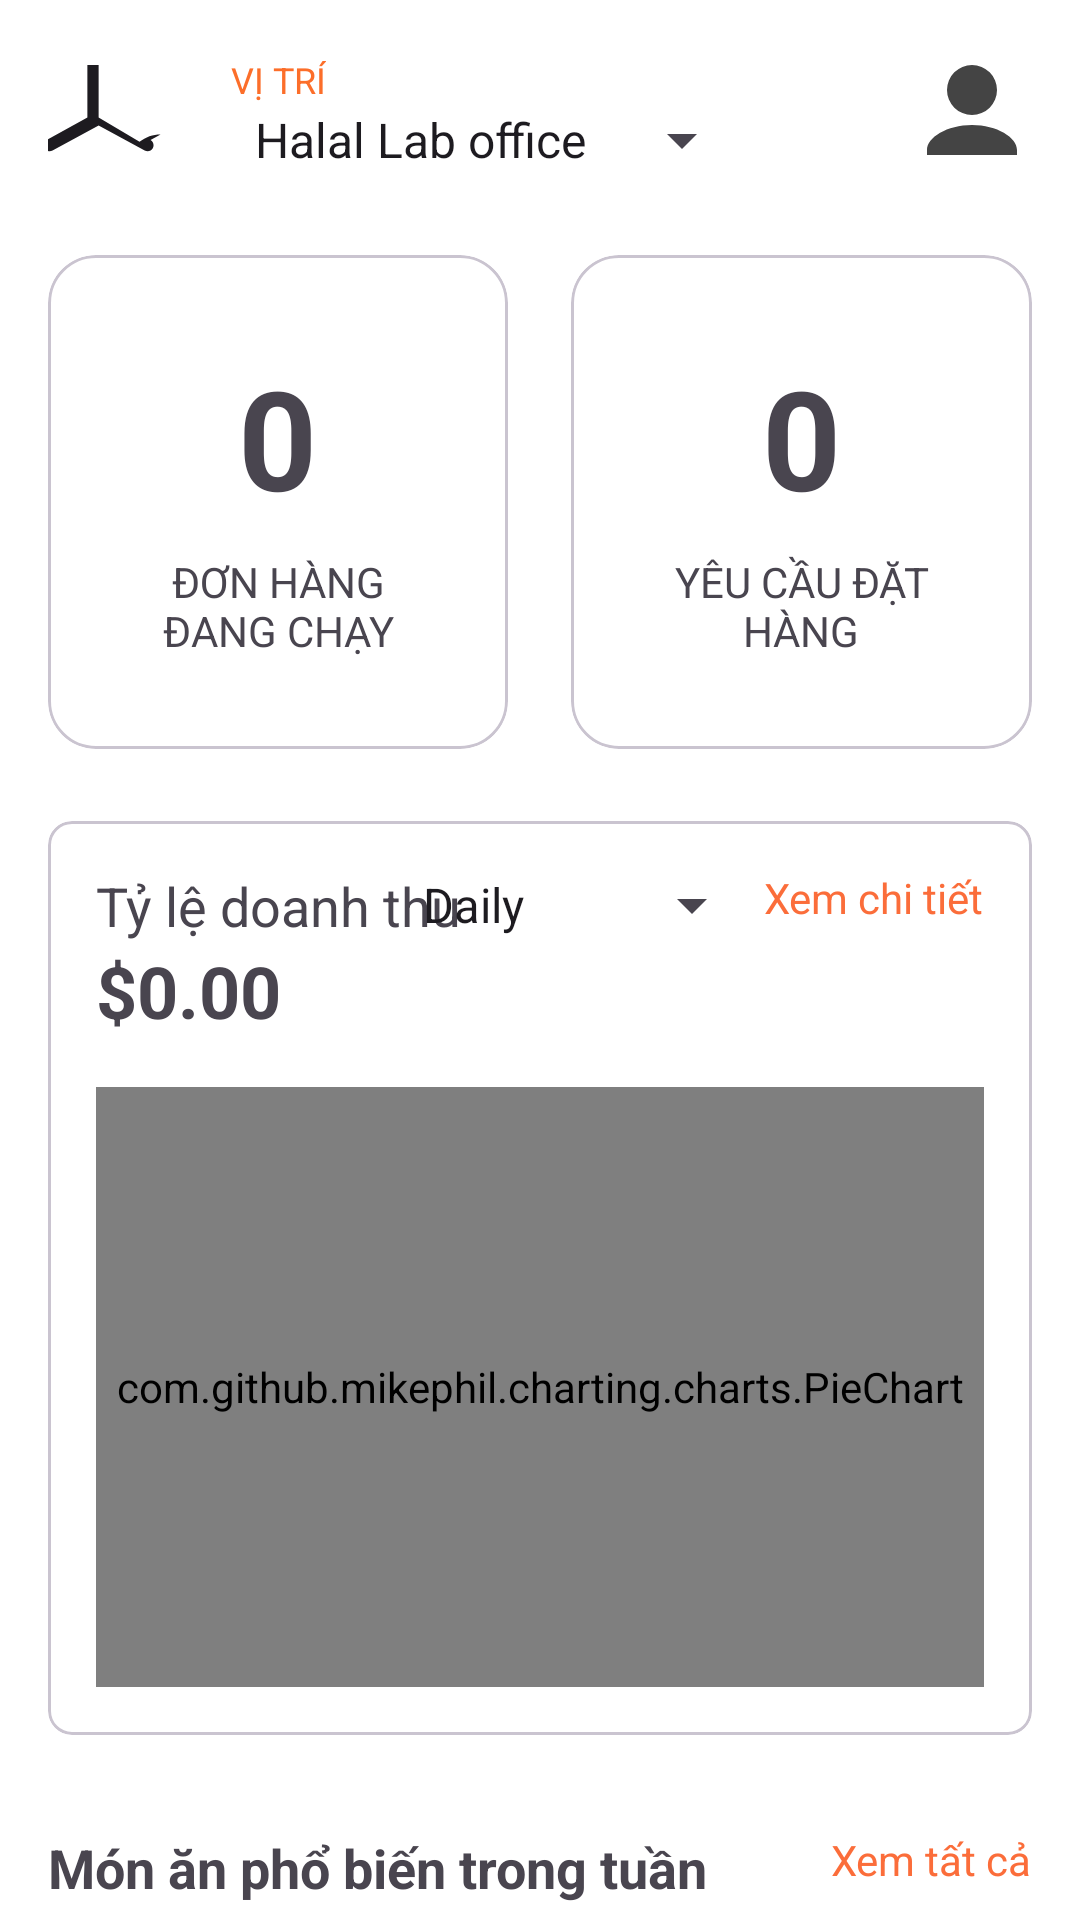

Where to tap for icons on this 1080 x 1920 app screen, as point (x, y):
Hồ sơ: point (972, 110)
